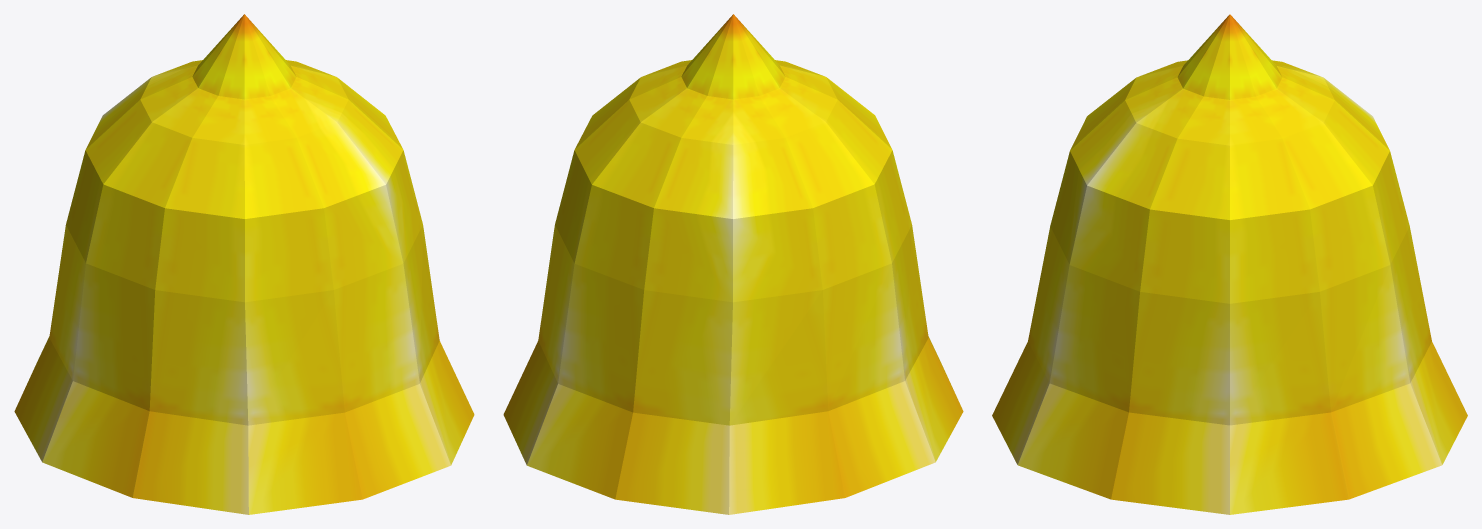
Rendered from biabell_bake.dae.
The picture shows the model from 3 angles, left to right: view 1: azimuth 30°, elevation 25°; view 2: azimuth 150°, elevation 25°; view 3: azimuth 270°, elevation 25°; orthographic projection.
Visible parts, largest first — view 1: m0; view 2: m0; view 3: m0.
Part boxes in pixels (<box>): m0: <box>14,14,474,514</box>; m0: <box>503,14,963,514</box>; m0: <box>992,14,1467,514</box>.
Bounding box in the file's own units: 162 × 152 × 164.
2 materials, 2 textured.
